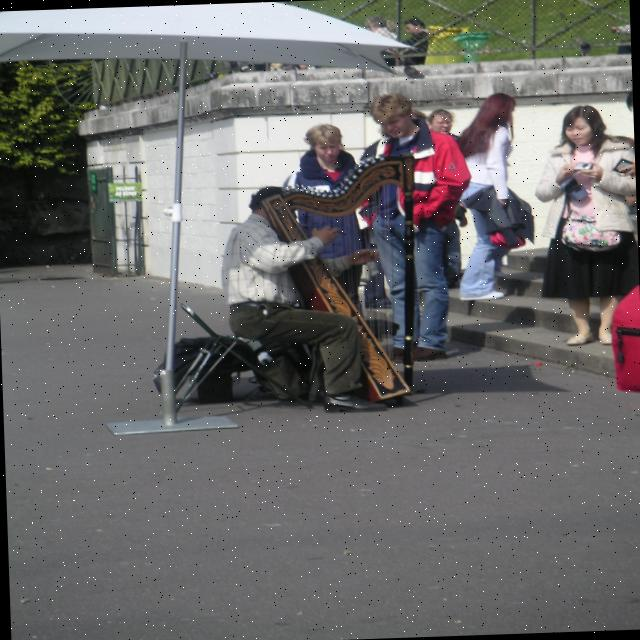harp: (246, 155, 428, 406)
